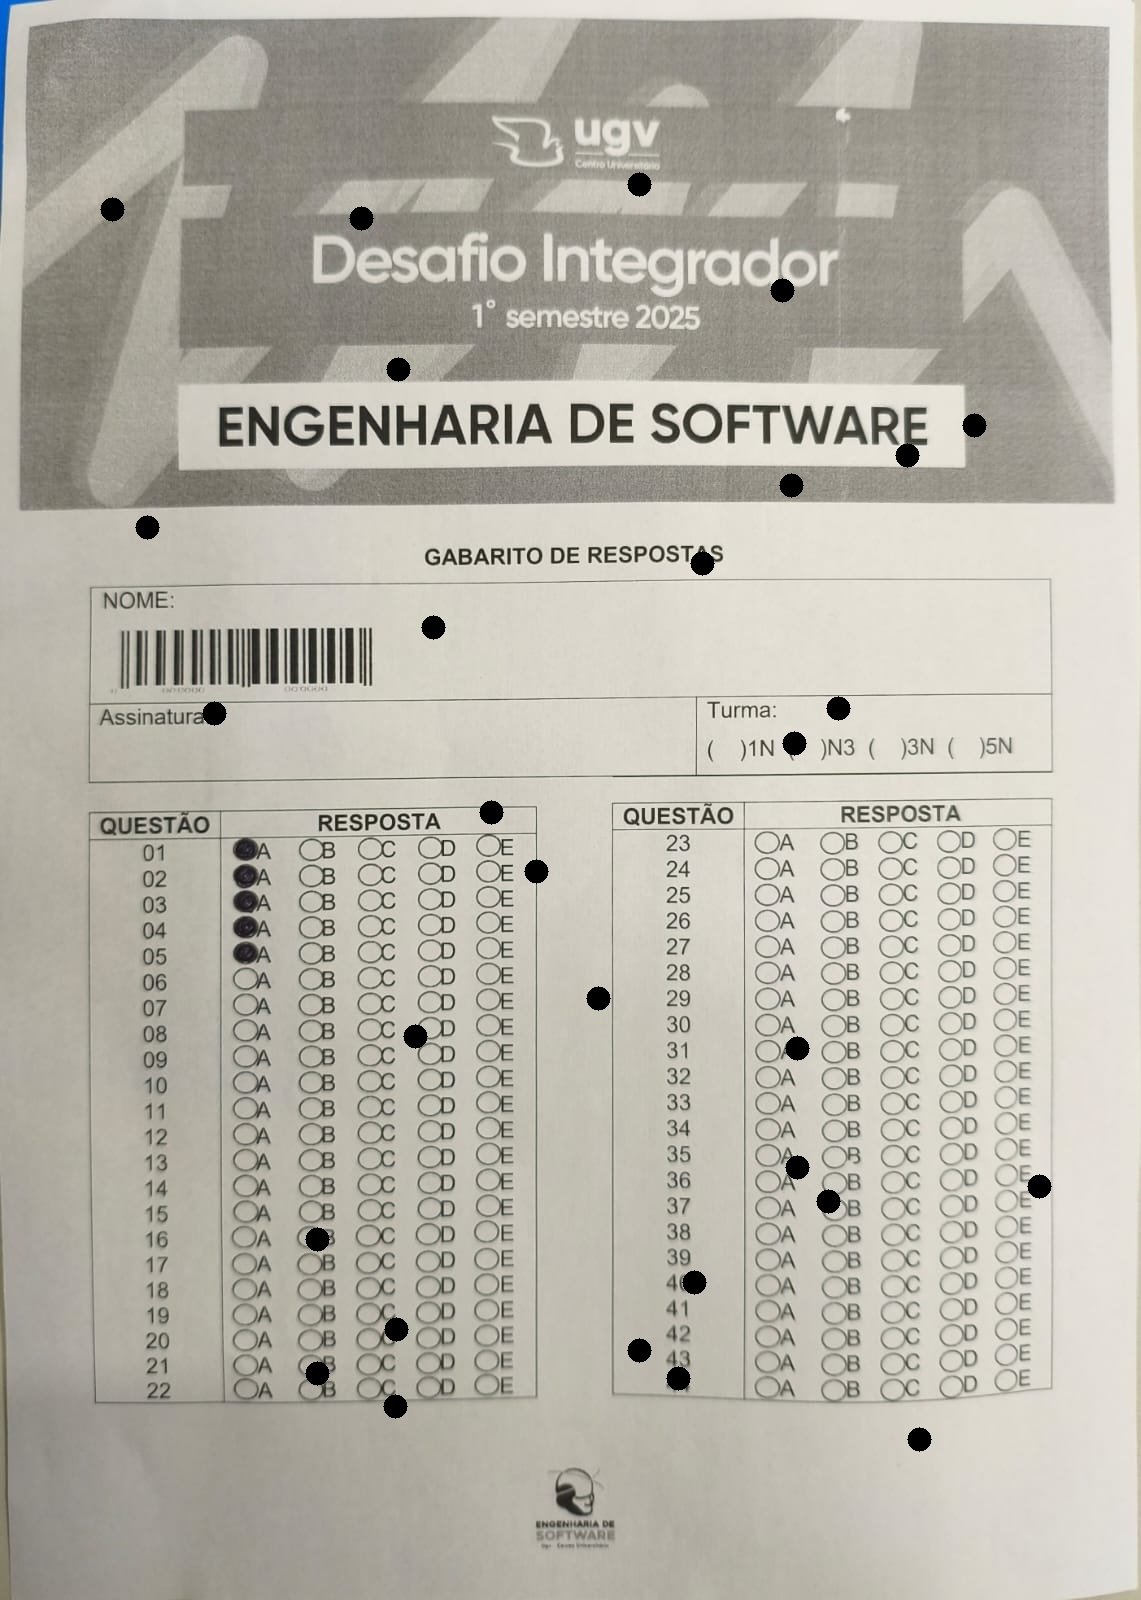bolinha: (135, 510, 159, 544), (682, 1265, 706, 1299), (666, 1362, 690, 1395), (383, 1389, 407, 1422), (403, 1020, 427, 1053), (782, 726, 806, 759), (524, 854, 548, 888), (387, 352, 410, 386), (421, 610, 445, 644), (785, 1031, 809, 1065), (690, 546, 714, 580), (771, 273, 794, 307), (627, 167, 651, 201), (305, 1356, 328, 1390), (962, 409, 985, 442), (100, 193, 123, 226), (785, 1151, 809, 1184), (816, 1184, 840, 1217), (384, 1312, 407, 1346), (349, 201, 373, 235), (895, 438, 919, 472), (826, 691, 850, 725), (627, 1333, 651, 1367), (587, 981, 610, 1015), (779, 468, 803, 501), (305, 1222, 328, 1256), (479, 795, 503, 828), (1027, 1169, 1051, 1202), (908, 1422, 931, 1456), (203, 696, 226, 730)
